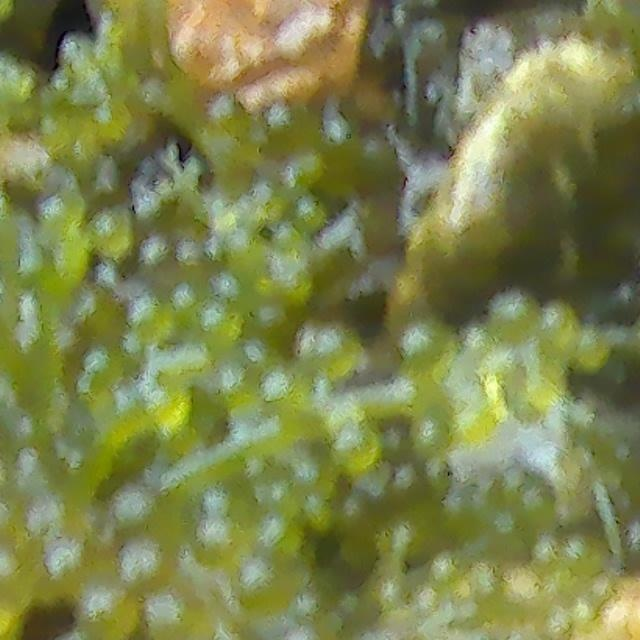SeaGrape: (235, 558, 298, 616), (78, 590, 143, 640), (108, 483, 164, 541), (118, 540, 177, 594), (143, 596, 198, 640), (488, 290, 539, 337), (87, 209, 136, 257), (312, 323, 359, 372), (195, 520, 247, 564), (469, 21, 514, 68), (536, 301, 576, 353), (331, 426, 377, 471), (571, 323, 611, 372), (138, 237, 178, 285), (150, 384, 192, 427), (401, 326, 440, 367), (39, 194, 81, 232)
